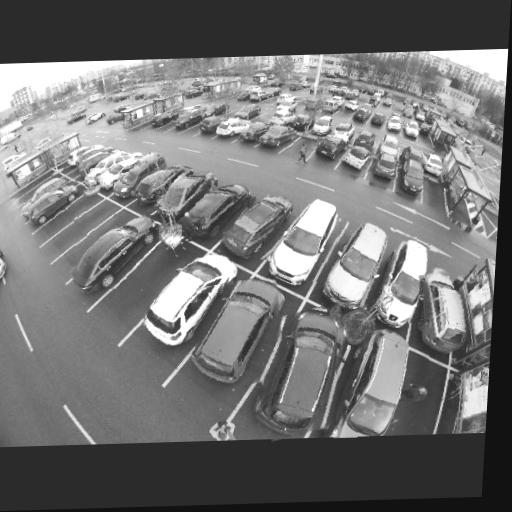busy: (251, 305, 362, 439), (188, 276, 289, 391), (332, 324, 433, 438), (140, 257, 234, 347), (73, 216, 169, 291), (323, 218, 395, 310), (269, 196, 341, 283), (416, 266, 487, 354), (377, 235, 438, 331), (221, 194, 292, 262), (186, 185, 250, 236), (160, 171, 219, 215), (23, 182, 87, 220), (110, 153, 167, 195), (452, 371, 489, 433), (135, 166, 189, 203), (88, 151, 142, 188), (398, 152, 430, 193), (258, 124, 297, 150), (340, 144, 374, 172), (314, 135, 349, 161), (74, 147, 113, 169), (371, 153, 402, 180), (216, 117, 250, 141), (175, 109, 210, 130), (419, 152, 448, 177), (239, 123, 269, 144), (198, 116, 229, 135), (310, 116, 336, 138), (288, 115, 315, 134), (271, 109, 298, 127), (354, 129, 378, 148), (200, 103, 229, 118), (331, 122, 355, 140), (234, 104, 261, 119), (385, 117, 404, 135), (106, 112, 130, 126), (402, 122, 421, 139), (352, 106, 371, 123), (322, 98, 344, 112), (305, 100, 325, 113), (369, 113, 388, 126), (87, 113, 109, 124), (342, 101, 361, 113)
free: (124, 265, 173, 303), (415, 182, 450, 213), (70, 217, 101, 235), (290, 140, 317, 160), (98, 214, 128, 230), (56, 208, 76, 225), (162, 120, 176, 131), (258, 113, 273, 122)
